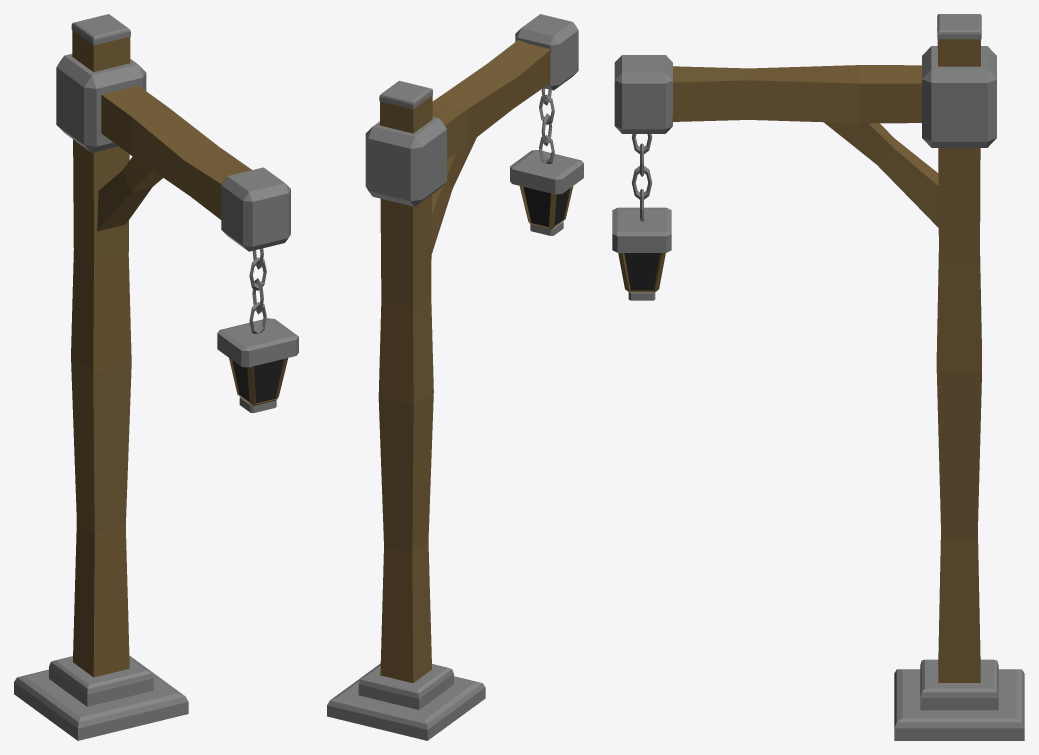
Rendered from street_lamp.fbx.
3 renders of one model, left to right at view 1: azimuth 30°, elevation 25°; view 2: azimuth 150°, elevation 25°; view 3: azimuth 270°, elevation 25°, orthographic. The views are drawn at different scales.
Visible parts, largest first — view 1: Streetlamp; view 2: Streetlamp; view 3: Streetlamp.
Boxes of the visible parts, bbox=[...] form: Streetlamp: bbox=[14, 14, 298, 740]; Streetlamp: bbox=[327, 14, 583, 740]; Streetlamp: bbox=[612, 14, 1024, 740].
Size of the model in its own units: 60 by 352 by 190.
